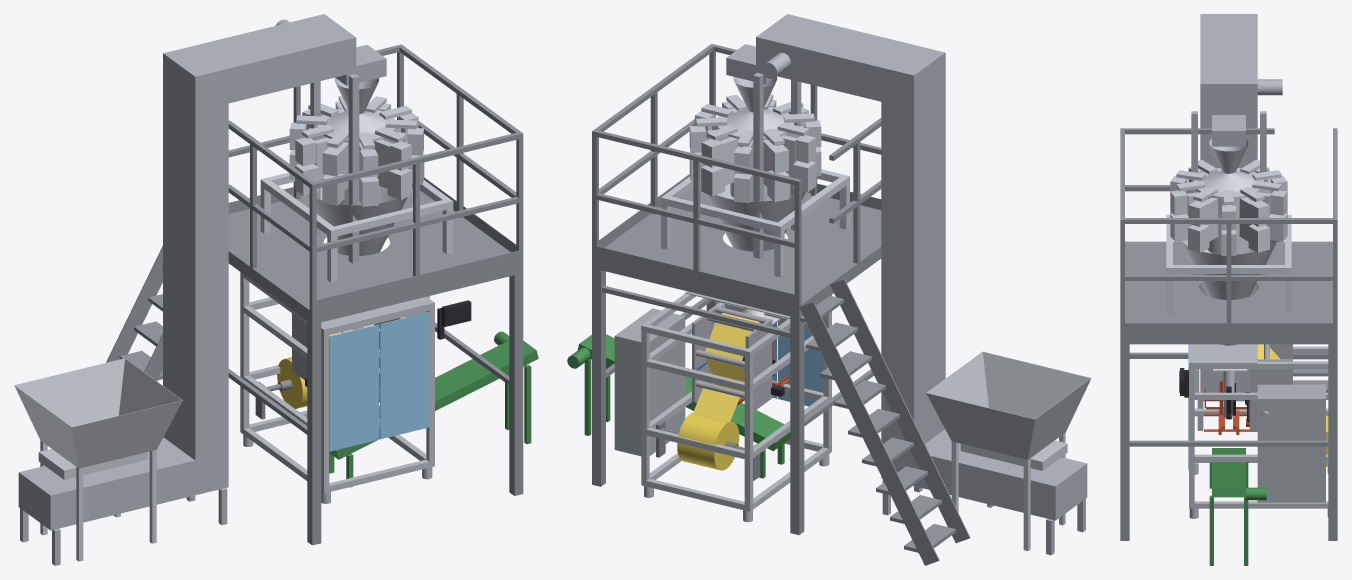
File: spm420.glb
3 views of the same model, side by side, from view 1: azimuth 30°, elevation 25°; view 2: azimuth 150°, elevation 25°; view 3: azimuth 270°, elevation 25° (orthographic). The views are drawn at different scales.
Visible parts, largest first — view 1: E01_z_bucket_elevator, P01_weigher_platform, W01_multihead_weigher, E02_infeed_hopper, B14_guard_doors, B01_main_frame, C01_takeoff_conveyor, B02_film_roll, B16_hmi_station, B04_guide_rollers; view 2: P01_weigher_platform, E01_z_bucket_elevator, W01_multihead_weigher, E02_infeed_hopper, B01_main_frame, B15_electrical_cabinet, B04_guide_rollers, C01_takeoff_conveyor, B17_film_web, B02_film_roll, B14_guard_doors; view 3: P01_weigher_platform, W01_multihead_weigher, E01_z_bucket_elevator, B15_electrical_cabinet, B01_main_frame, C01_takeoff_conveyor, B04_guide_rollers, B13_jaw_assembly, B06_forming_tube.
Part boxes in pixels (x1,y1,x2,y2): E01_z_bucket_elevator: (18,14,386,565); P01_weigher_platform: (106,44,523,545); W01_multihead_weigher: (260,77,453,282); E02_infeed_hopper: (14,358,182,561); B14_guard_doors: (329,312,429,451); B01_main_frame: (240,272,434,503); C01_takeoff_conveyor: (329,331,538,487); B02_film_roll: (277,357,307,408); B16_hmi_station: (437,300,471,339); B04_guide_rollers: (292,313,307,379); P01_weigher_platform: (592,44,970,565); E01_z_bucket_elevator: (726,14,1087,555); W01_multihead_weigher: (661,76,849,277); E02_infeed_hopper: (926,351,1091,550); B01_main_frame: (641,291,831,522); B15_electrical_cabinet: (614,308,685,456); B04_guide_rollers: (692,306,772,411); C01_takeoff_conveyor: (567,334,790,478); B17_film_web: (693,313,759,421); B02_film_roll: (677,412,739,470); B14_guard_doors: (772,318,823,406); P01_weigher_platform: (1120,128,1337,540); W01_multihead_weigher: (1166,139,1291,313); E01_z_bucket_elevator: (1191,14,1282,430); B15_electrical_cabinet: (1257,384,1325,502); B01_main_frame: (1189,344,1328,518); C01_takeoff_conveyor: (1209,448,1266,565); B04_guide_rollers: (1249,344,1292,431); B13_jaw_assembly: (1204,407,1249,434); B06_forming_tube: (1223,371,1234,418).
Bounding box in the file's own units: 4450 × 3900 × 1900.
